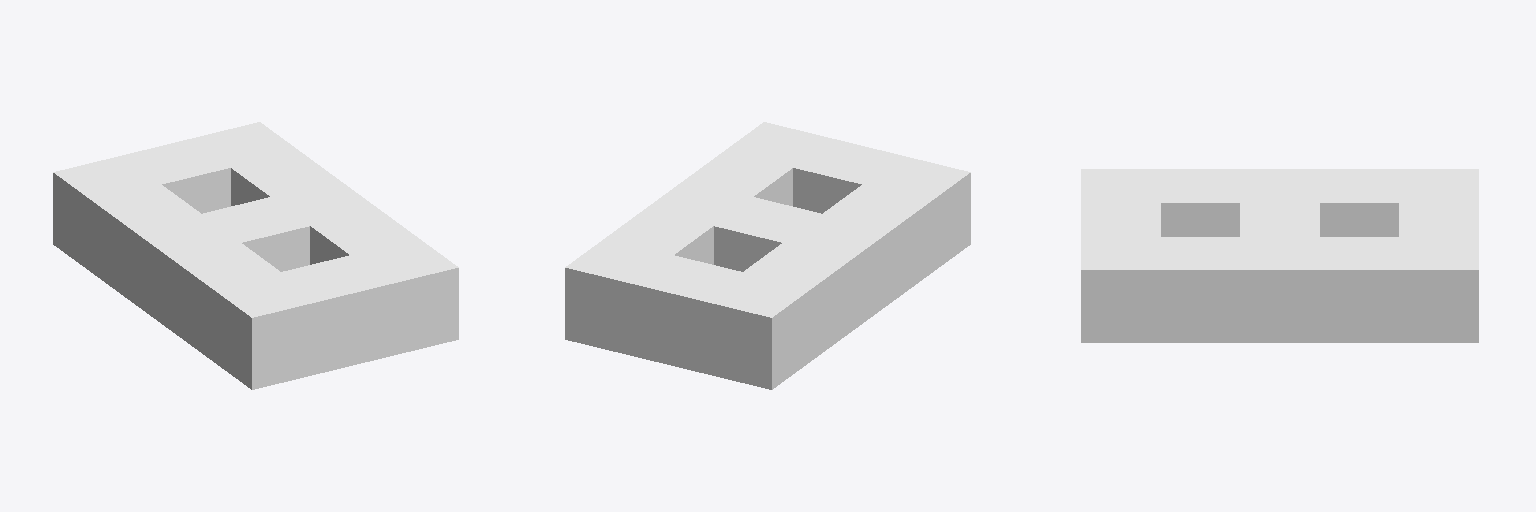
The model's file is Number-8.obj.
The picture shows the model from 3 angles: view 1: azimuth 30°, elevation 25°; view 2: azimuth 150°, elevation 25°; view 3: azimuth 270°, elevation 25°; orthographic projection.
Size of the model in its own units: 3 by 1 by 5.